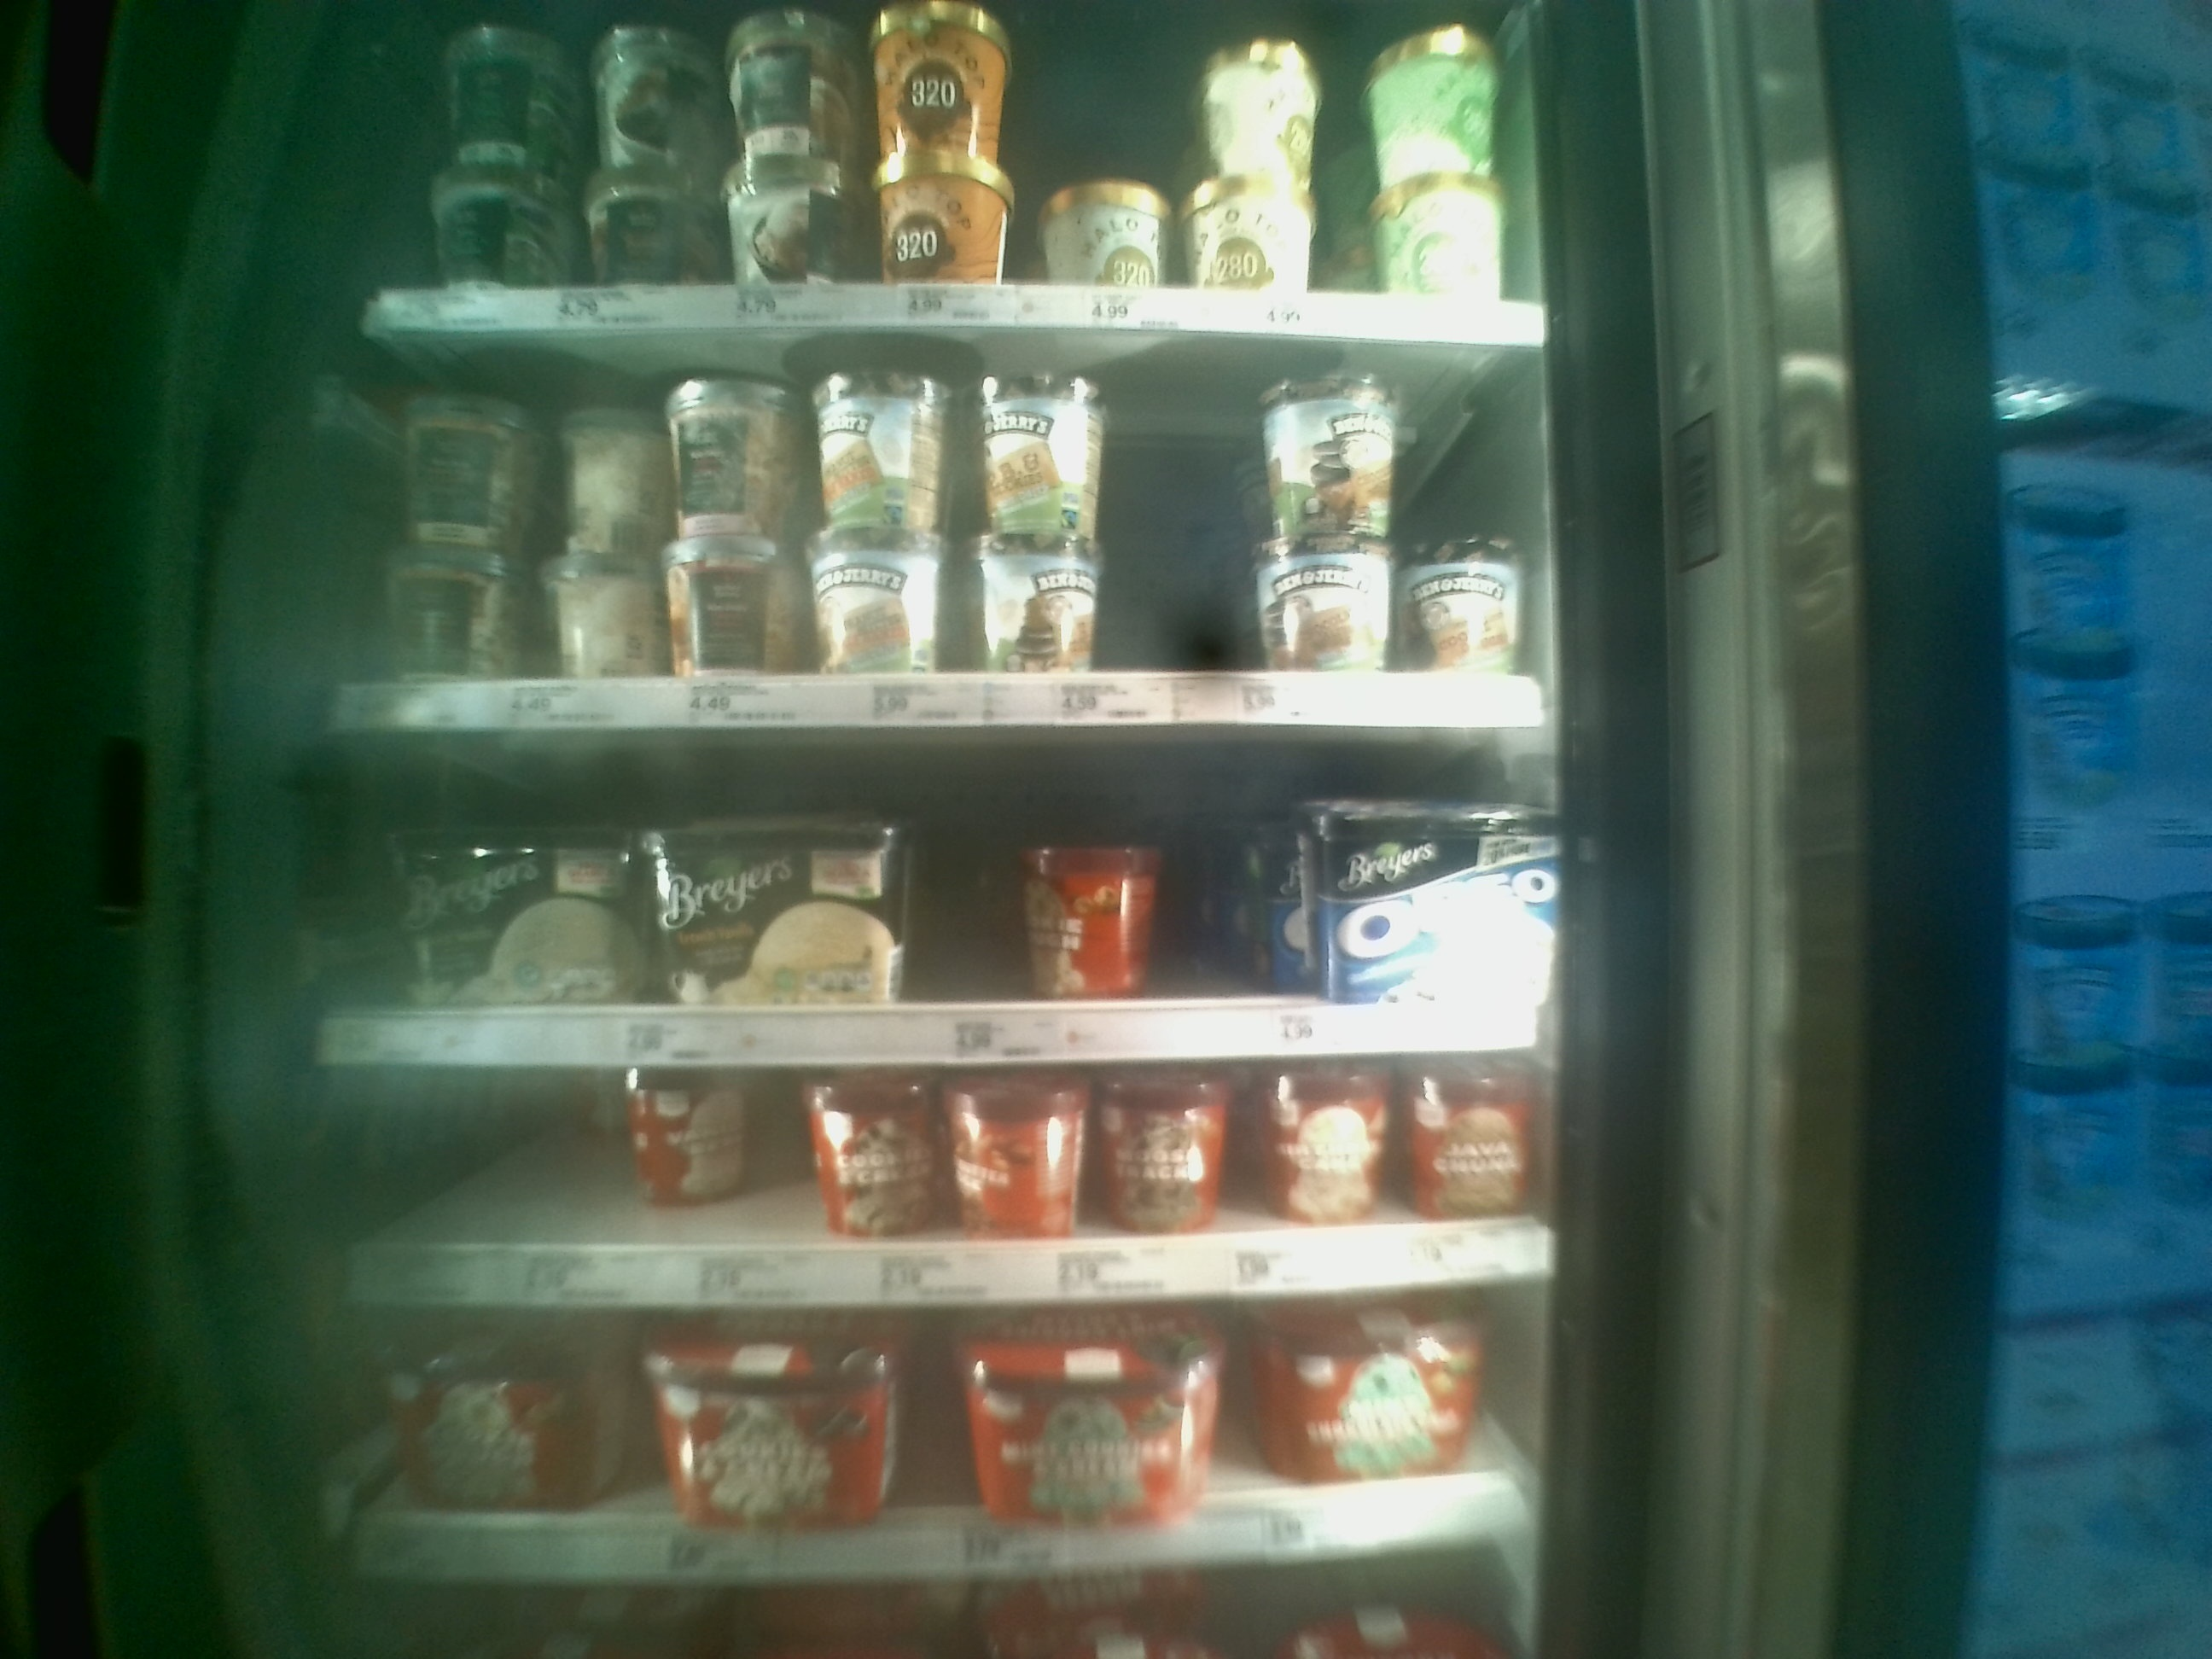ice-cream-shelf: (312, 342, 1541, 739), (327, 746, 1561, 1060), (340, 1063, 1555, 1314)
